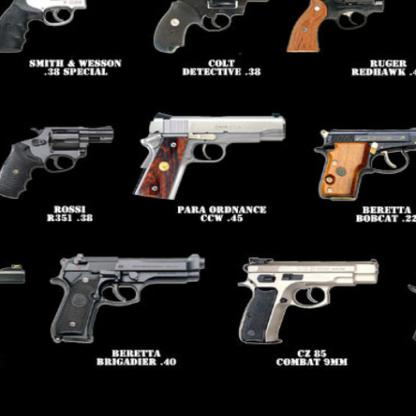gun: (47, 250, 210, 344), (229, 256, 373, 347), (137, 117, 286, 197), (0, 124, 112, 203), (0, 0, 140, 57), (312, 128, 415, 204), (149, 0, 277, 59), (284, 0, 415, 56)
